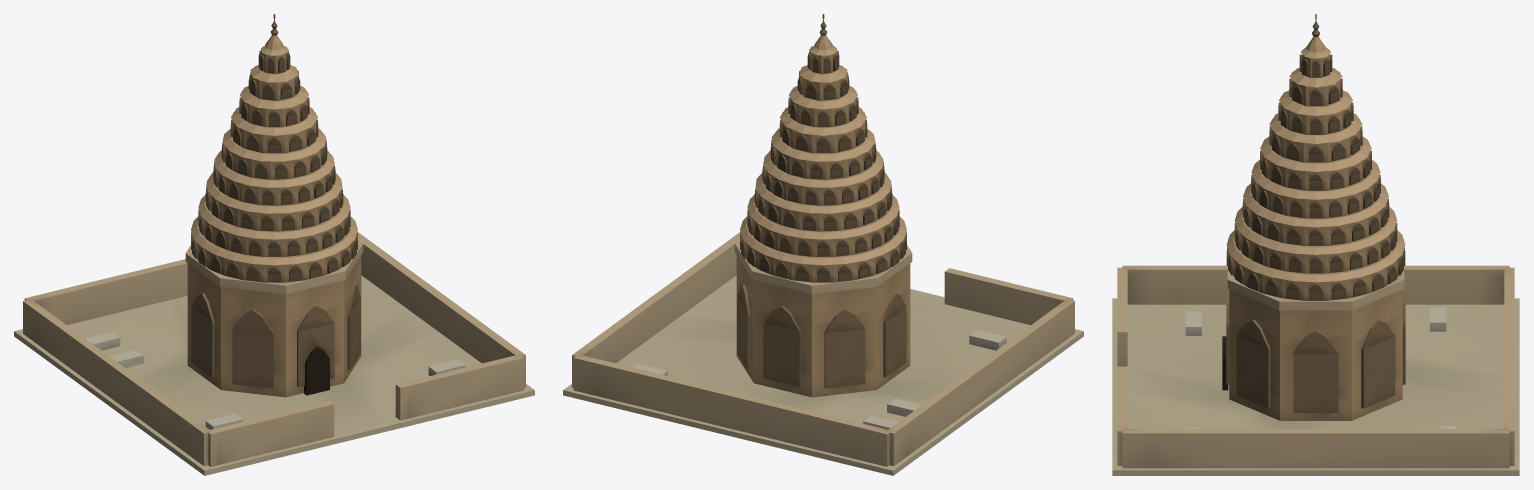
Rendered from zumurrud-khatun.glb.
3 views of the same model, side by side, from view 1: azimuth 30°, elevation 25°; view 2: azimuth 150°, elevation 25°; view 3: azimuth 270°, elevation 25° (orthographic). The views are drawn at different scales.
Visible parts, largest first — view 1: p0_ground, p2_muqarnas dome, p1_chamber, p3_graves; view 2: p0_ground, p2_muqarnas dome, p1_chamber, p3_graves; view 3: p0_ground, p2_muqarnas dome, p1_chamber, p3_graves.
Part boxes in pixels (x1,y1,x2,y2): p0_ground: (14,232,534,475); p2_muqarnas dome: (191,14,357,282); p1_chamber: (185,239,363,397); p3_graves: (86,332,465,429); p0_ground: (563,232,1083,475); p2_muqarnas dome: (740,14,906,282); p1_chamber: (734,239,912,397); p3_graves: (633,330,1006,429); p0_ground: (1112,265,1519,475); p2_muqarnas dome: (1226,14,1405,300); p1_chamber: (1222,266,1405,420); p3_graves: (1185,307,1456,428).
Size of the model in its own units: 20 by 20.35 by 20.
